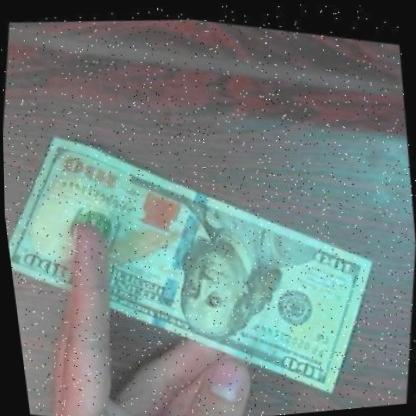one_hundred-front: (2, 87, 405, 416)
